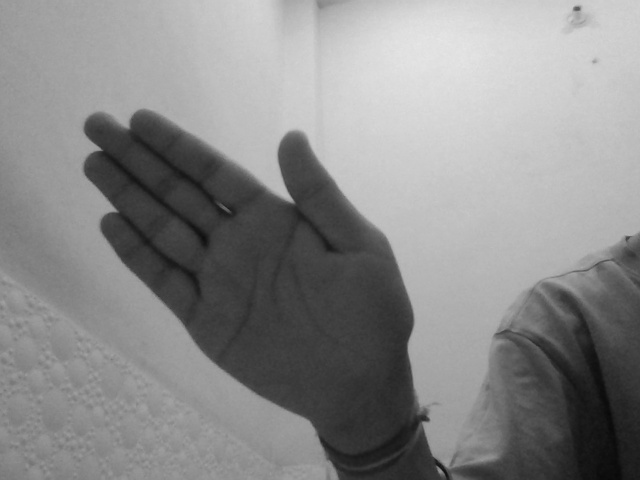Hello: (77, 109, 416, 441)
